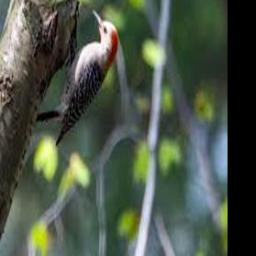Woodpecker: (35, 7, 117, 145)
